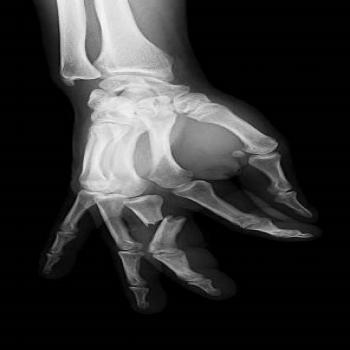Fracture: (146, 208, 186, 231)
